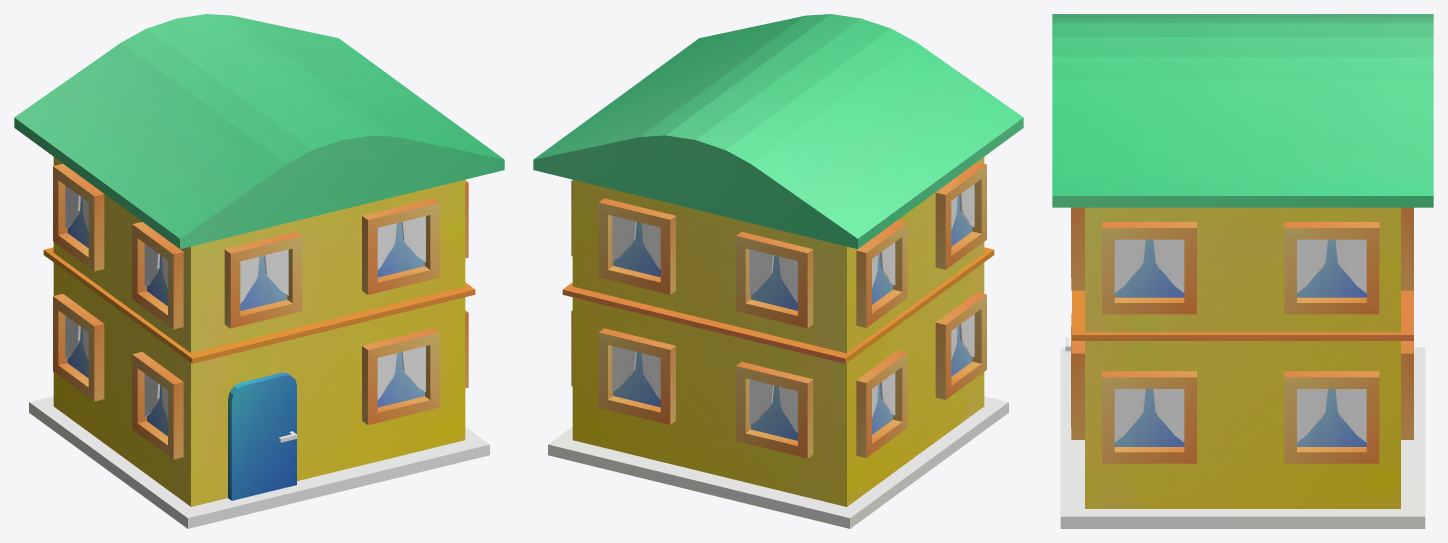
The model's file is House_11.fbx.
3 views of the same model, side by side, from view 1: azimuth 30°, elevation 25°; view 2: azimuth 150°, elevation 25°; view 3: azimuth 270°, elevation 25° (orthographic). The views are drawn at different scales.
Visible parts, largest first — view 1: House.11; view 2: House.11; view 3: House.11.
Part boxes in pixels (left/top/right/bottom): House.11: left=14, top=14, right=504, bottom=528; House.11: left=533, top=14, right=1023, bottom=528; House.11: left=1052, top=14, right=1433, bottom=528.
Bounding box in the file's own units: 813 × 849 × 720.
Materials: 1 (1 with a texture image).
